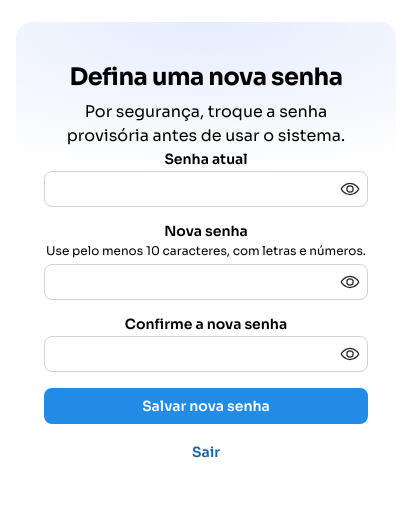
Test: ChangePasswordPage › shows the API error and keeps the flag when the API refuses
This screenshot has width=413, height=520.
Type "Old-Pass-123" into the password field labelled "Senha atual" at (206, 190), box [45, 172, 367, 206]
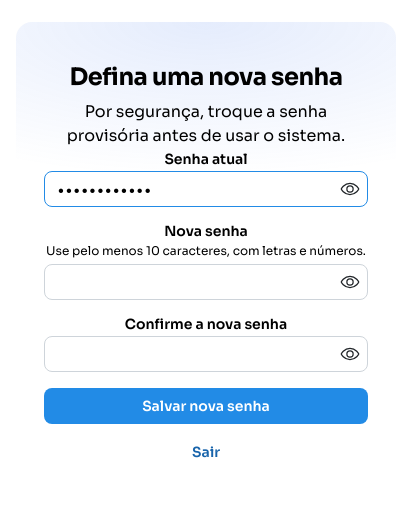
Type "Brand-New-Pass-9" into the password field labelled "Nova senha" at (206, 282), box [45, 265, 367, 299]
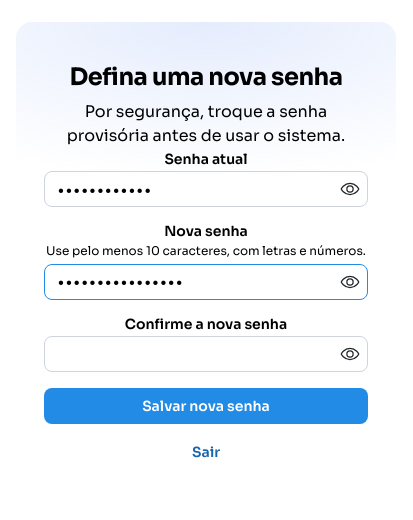
Type "Brand-New-Pass-9" into the password field labelled "Confirme a nova senha" at (206, 354), box [45, 338, 367, 372]
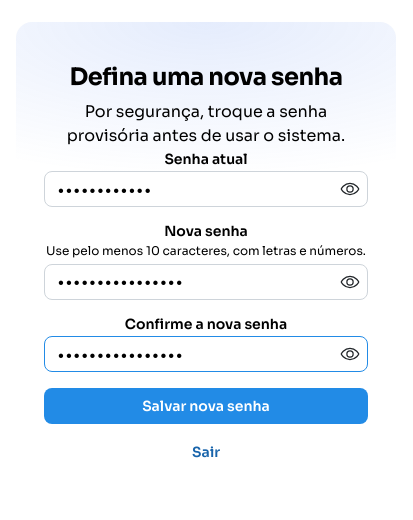
Click the button "Salvar nova senha" at (206, 406), box [44, 388, 368, 424]
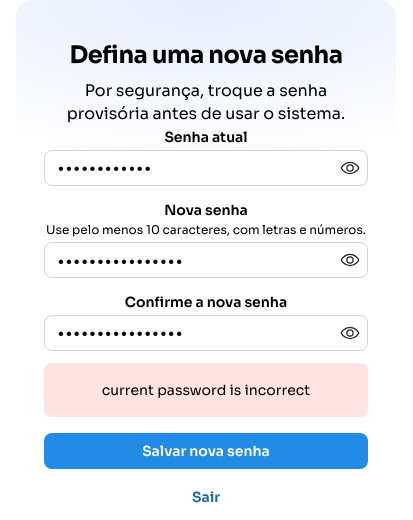
Result: the text "current password is incorrect" is shown at [102, 381, 310, 399]
